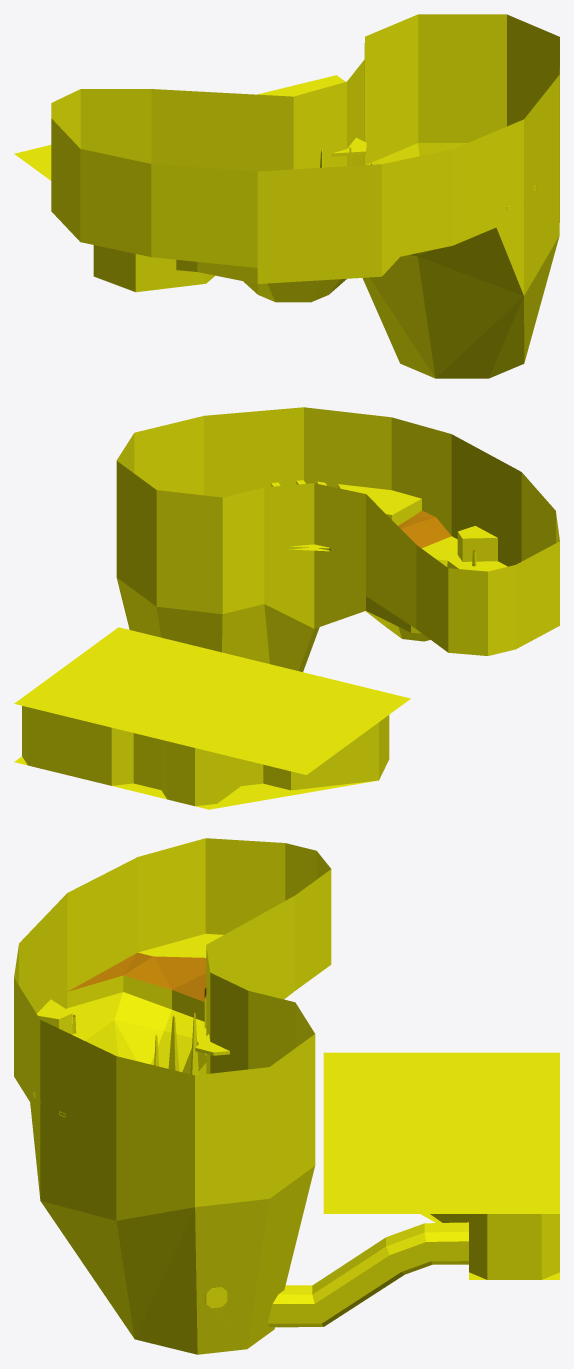
File: jrb_segment7.0x0B058.collision.obj
3 views of the same model, one above another, from view 1: azimuth 30°, elevation 25°; view 2: azimuth 150°, elevation 25°; view 3: azimuth 270°, elevation 25° (orthographic). The views are drawn at different scales.
Parts seen in each view (by area): view 1: jrb_segment7_0B058_normal; view 2: jrb_segment7_0B058_normal, jrb_segment7_0B058_climbable; view 3: jrb_segment7_0B058_normal, jrb_segment7_0B058_climbable.
Part boxes in pixels (x1=…): jrb_segment7_0B058_normal: x1=14, y1=14, x2=559, y2=378; jrb_segment7_0B058_normal: x1=14, y1=407, x2=559, y2=809; jrb_segment7_0B058_climbable: x1=398, y1=510, x2=522, y2=561; jrb_segment7_0B058_normal: x1=14, y1=838, x2=559, y2=1354; jrb_segment7_0B058_climbable: x1=68, y1=952, x2=206, y2=1016.
Bounding box in the file's own units: 15.44 × 9.1 × 15.02.
